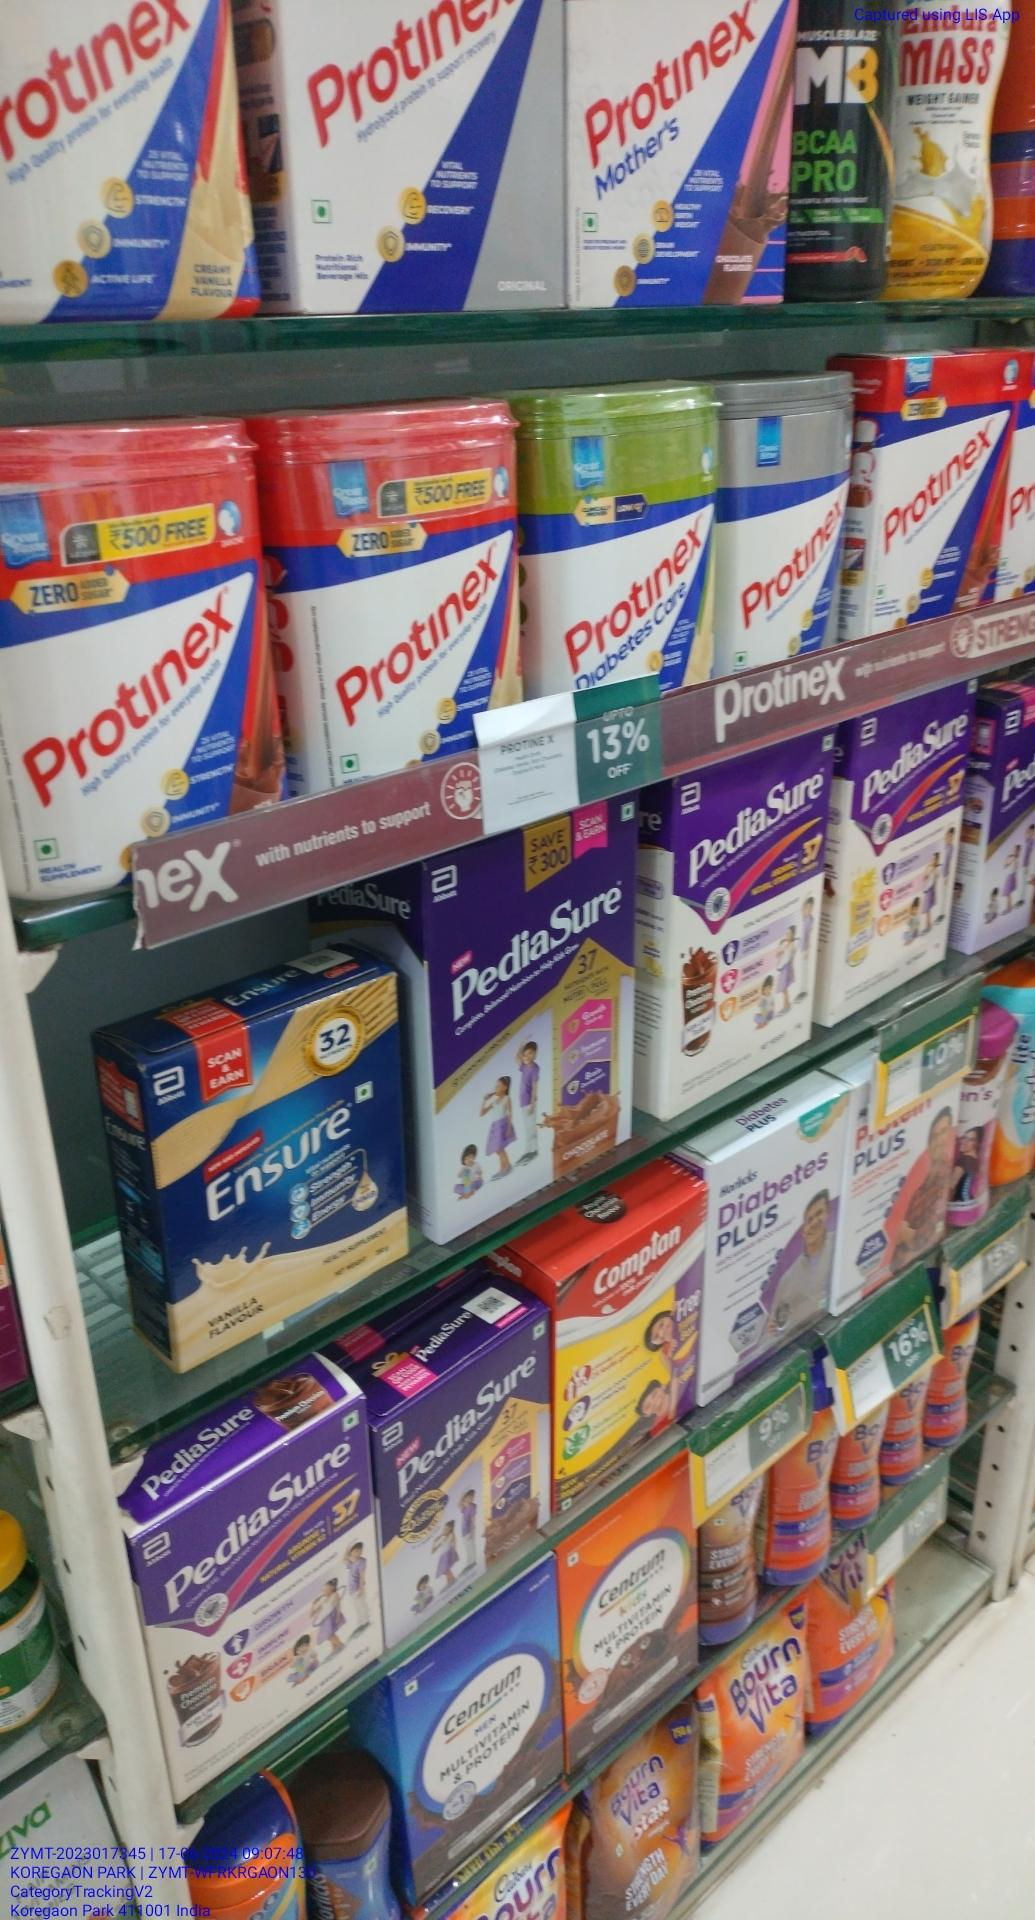ENSURE_VANILLA_400_G_PACK: (164, 996, 404, 1338)
PEDIASURE_CHOCOLATE_500_G_PACK: (430, 833, 639, 1217)
PROTINEX_CHOCOLATE_400_G_JAR: (0, 420, 277, 888)
PROTINEX_ORIGINAL_400_G_JAR: (724, 375, 855, 655)
PROTINEX_VANILLA_400_G_JAR: (292, 401, 517, 775)
